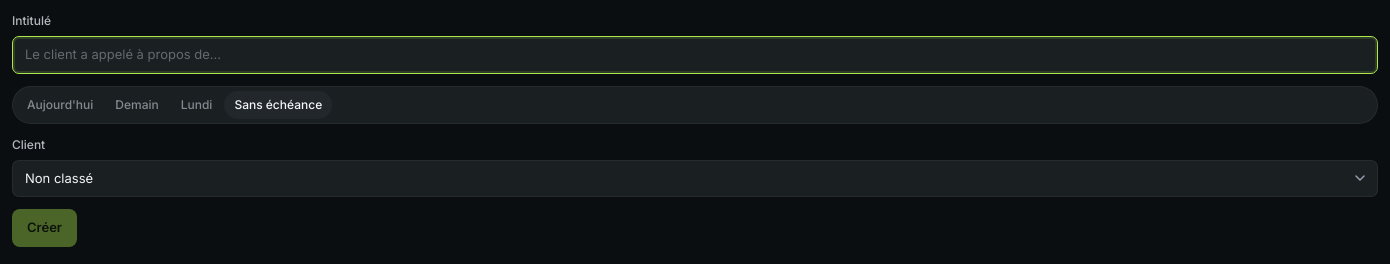
Test: QuickCaptureForm › enables submit on a title alone, with no client selected
This screenshot has width=1390, height=264.
Expected: the button "Créer" is disabled, [12,209,77,246]
Type "Appel client" into the field labelled "Intitulé" at (695, 55), box [12,36,1378,74]
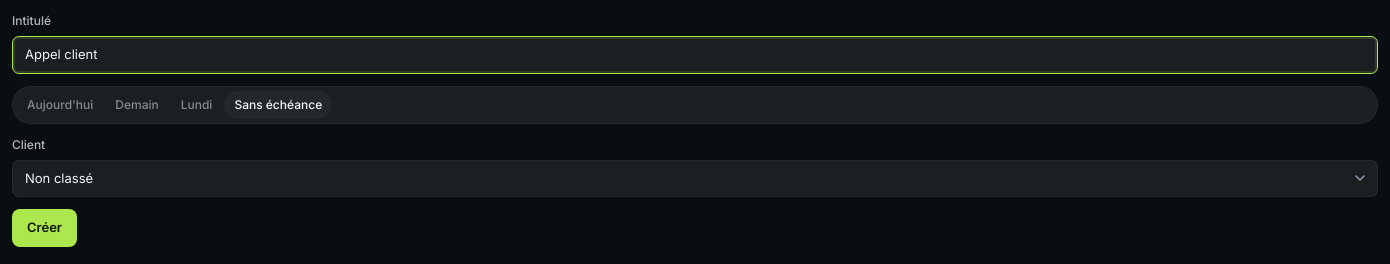
Expected: the button "Créer" is enabled, [12,209,77,246]
